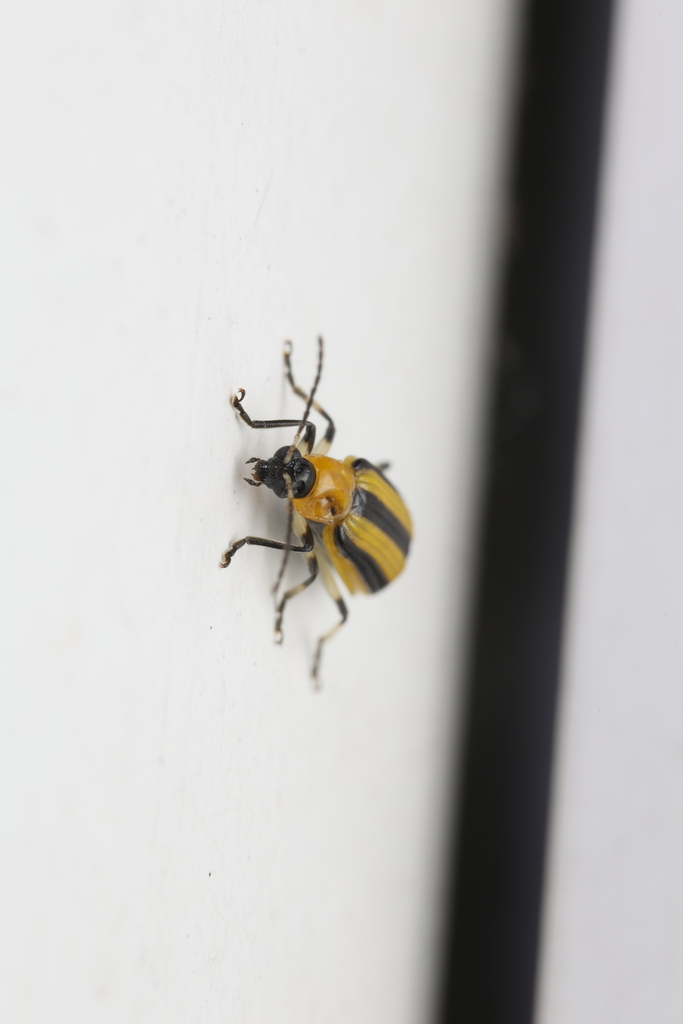potato_beetle: (159, 280, 485, 738)
